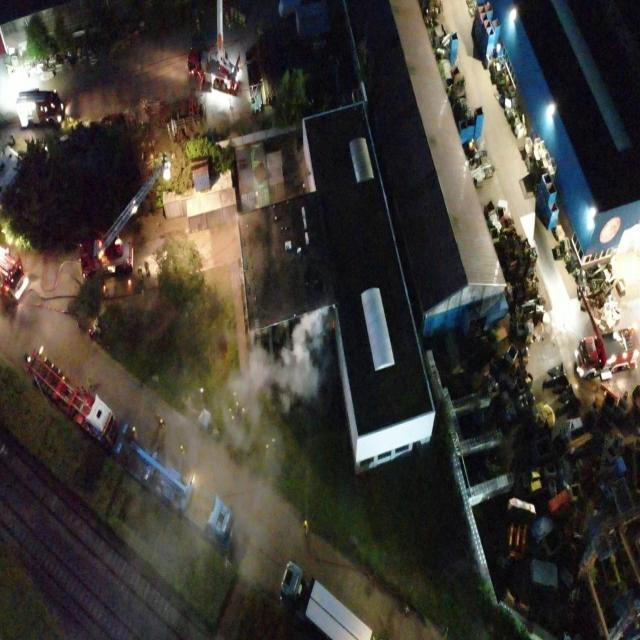Smoke: (185, 302, 334, 584), (291, 138, 311, 192)
